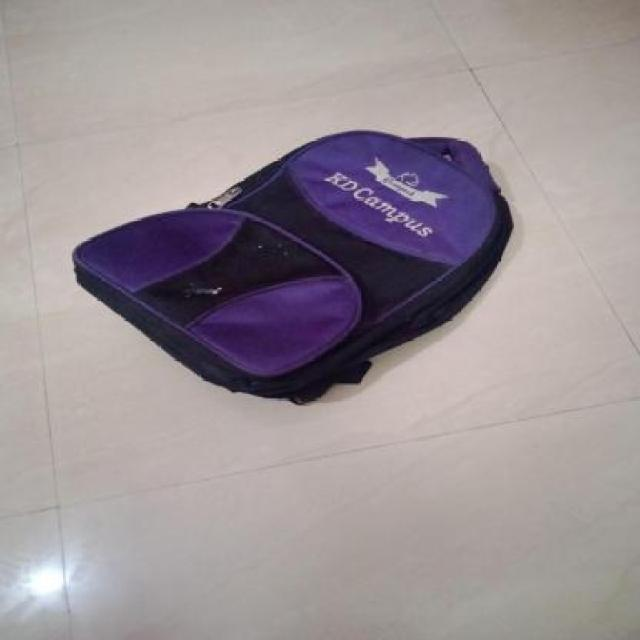backpack: (69, 123, 520, 411)
